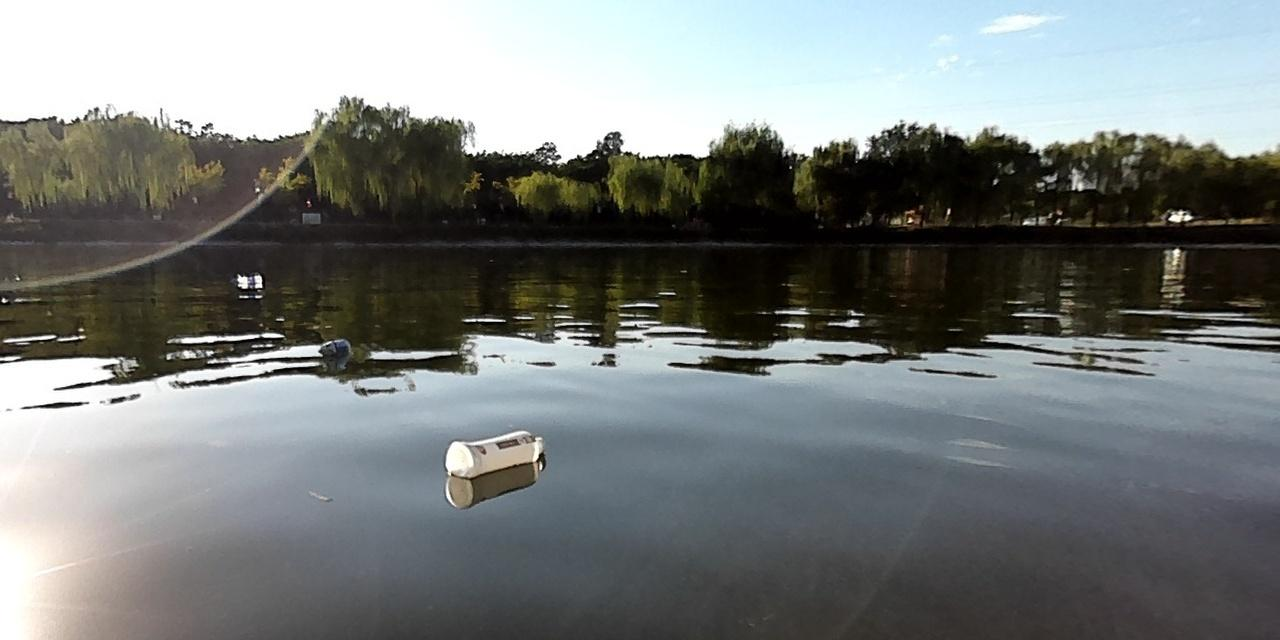bottle: (441, 424, 552, 479), (315, 337, 354, 358), (228, 272, 262, 287)
